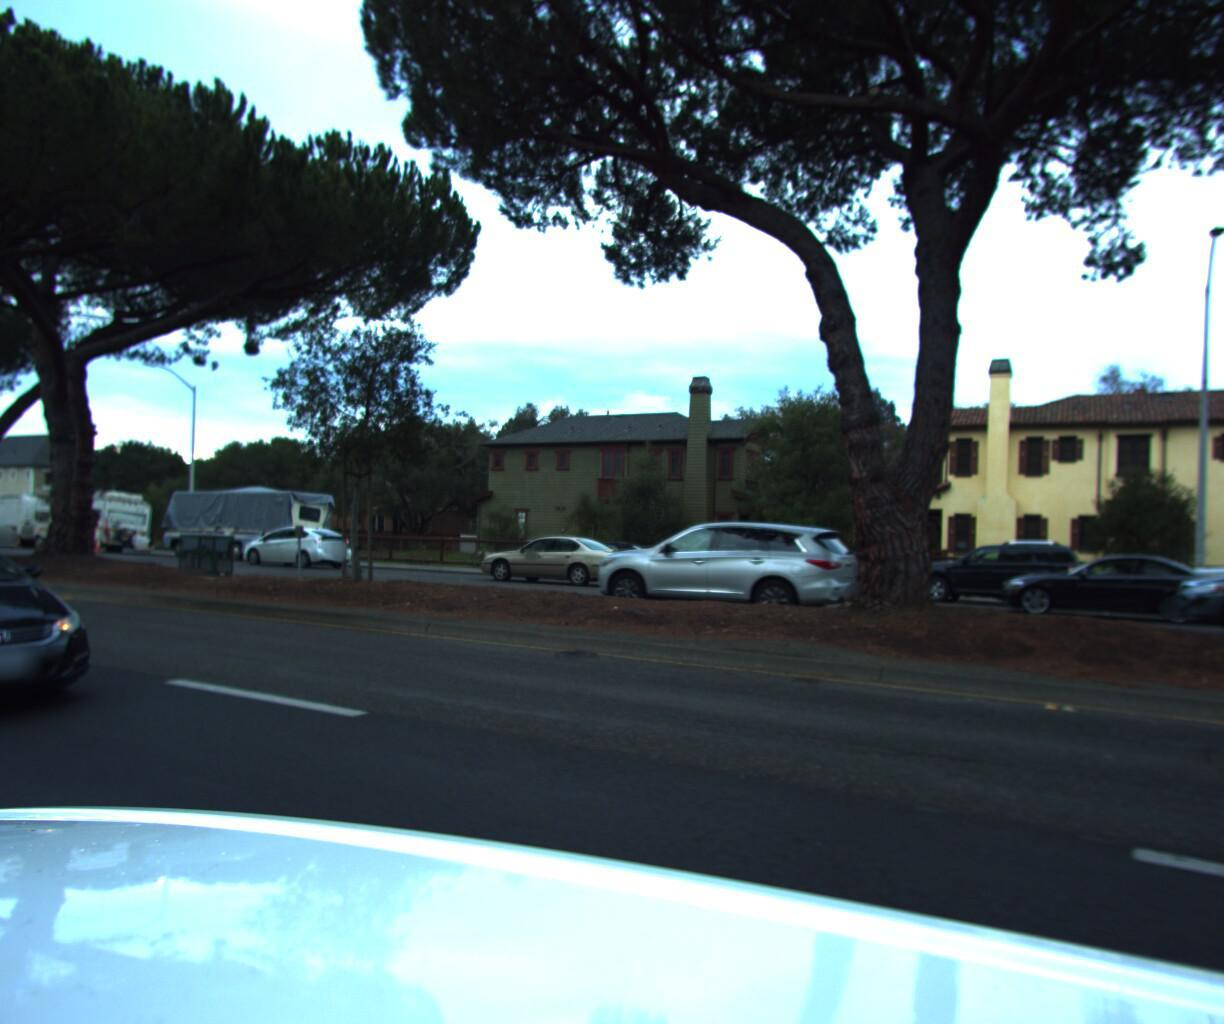bus: (152, 476, 343, 566)
car: (574, 509, 881, 621), (0, 519, 132, 757), (1000, 536, 1224, 620), (895, 534, 1087, 611), (466, 528, 650, 590), (1150, 526, 1224, 637), (530, 532, 679, 583), (1176, 525, 1224, 657), (231, 518, 356, 566)
other_vehicle: (25, 485, 154, 551), (0, 484, 78, 544)
